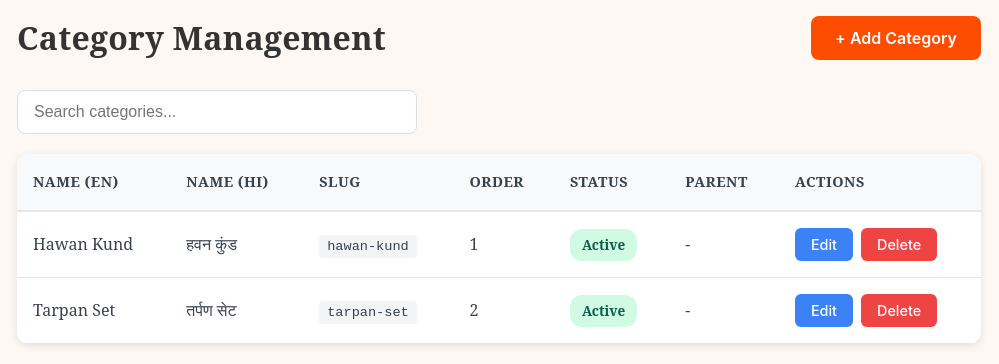
Test: CategoryManagement › should filter categories by search term
The image size is (999, 364).
Expected: the text "Hawan Kund" is shown, [17, 212, 170, 278]
In the field with placeholder "Search categories...": coordinates (217, 112) [17, 90, 417, 134], type "Hawan"
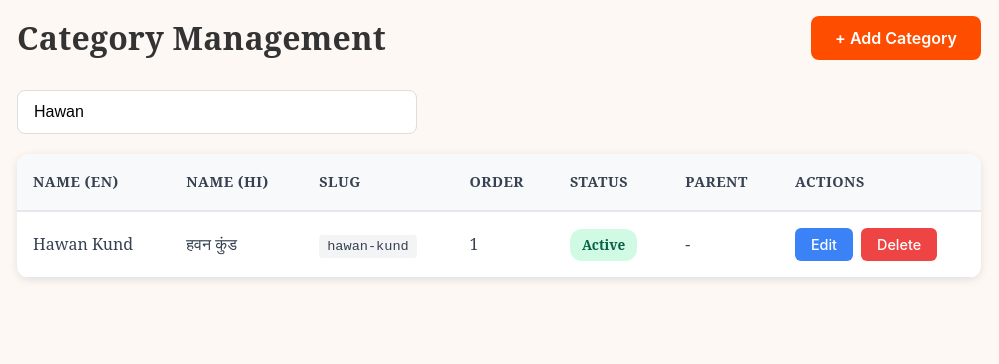
Expected: the text "Hawan Kund" is shown, [17, 212, 170, 278]
Now the text "Tarpan Set" is gone
